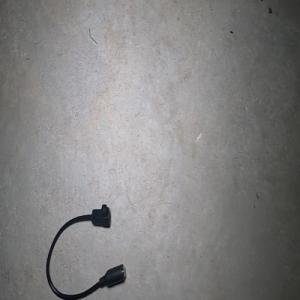Wire: (45, 203, 125, 300)
